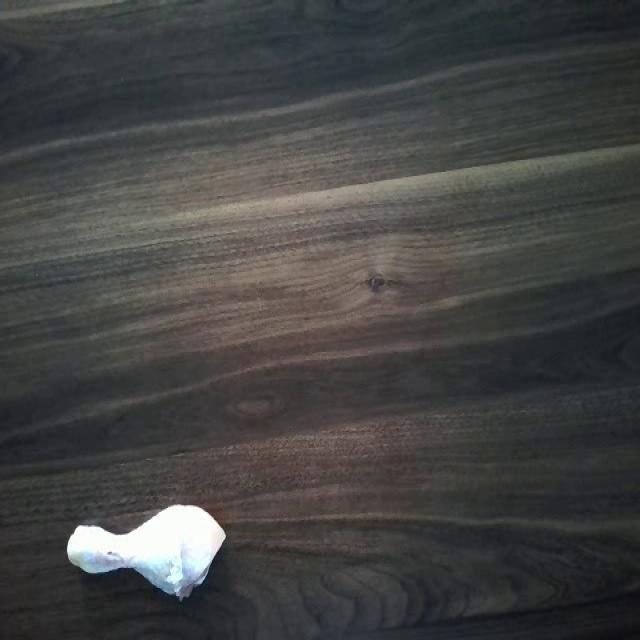leg: (60, 498, 226, 598)
